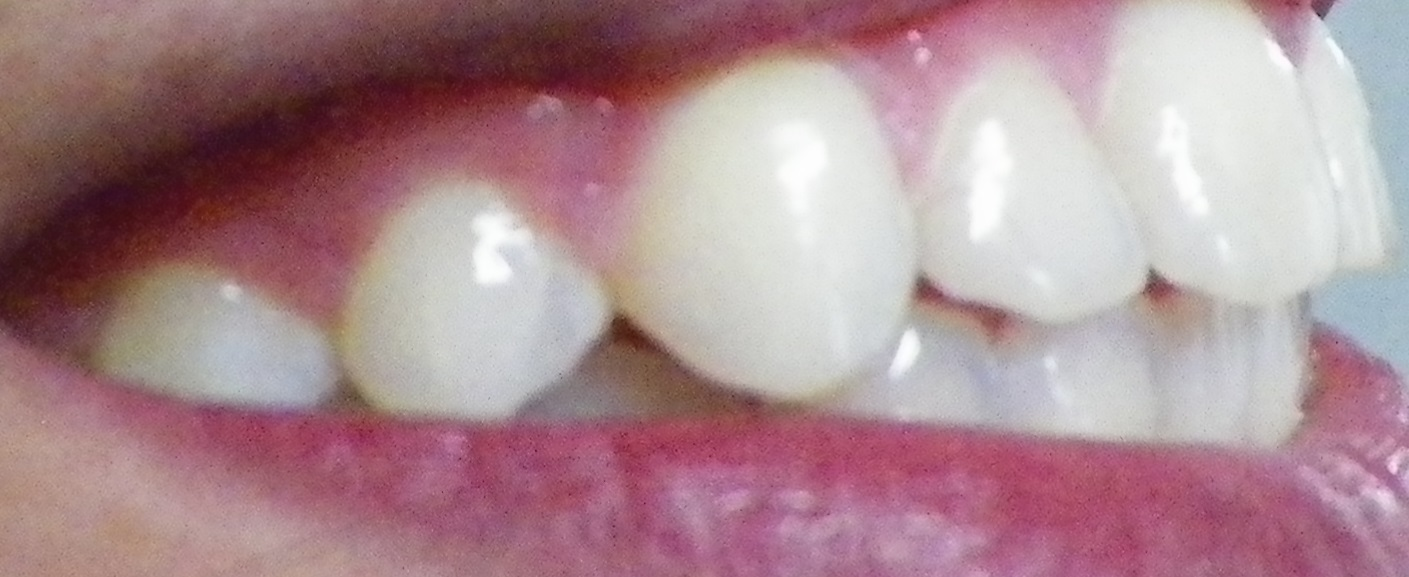boca: (98, 1, 1398, 464)
